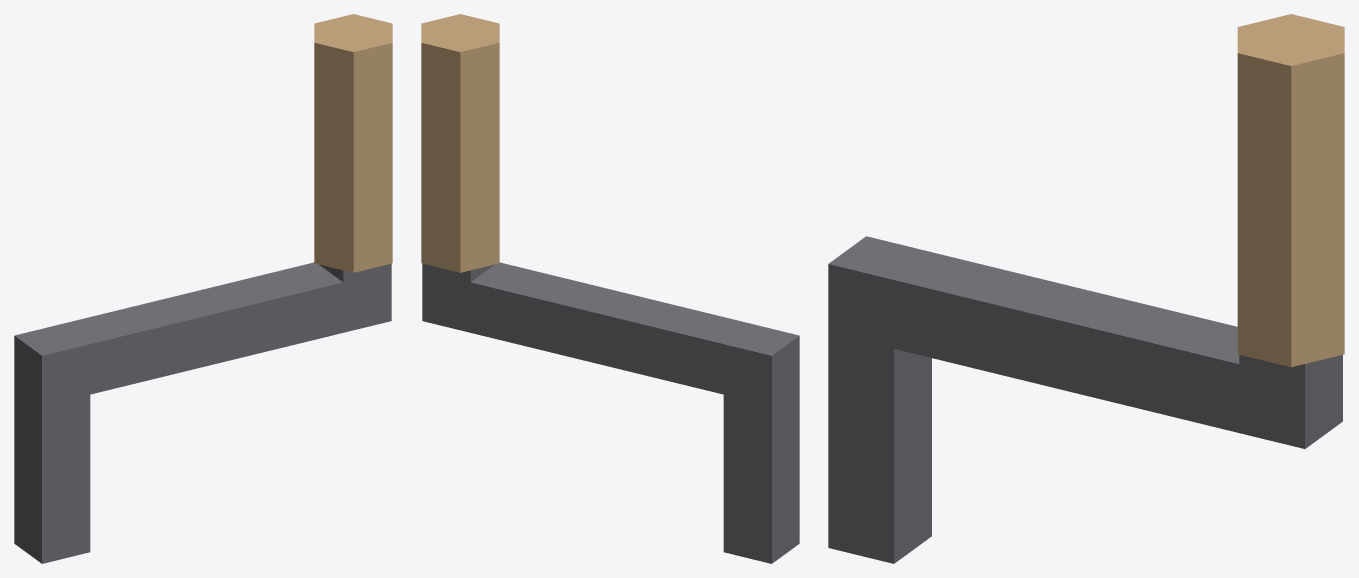
File: prop-crank-handle-blank.fbx
3 views of the same model, side by side, from view 1: azimuth 30°, elevation 25°; view 2: azimuth 150°, elevation 25°; view 3: azimuth 330°, elevation 25° (orthographic). The views are drawn at different scales.
Visible parts, largest first — view 1: prop-crank-handle-blank; view 2: prop-crank-handle-blank; view 3: prop-crank-handle-blank.
Boxes of the visible parts, x1=… form: prop-crank-handle-blank: x1=14, y1=14, x2=392, y2=563; prop-crank-handle-blank: x1=421, y1=14, x2=799, y2=563; prop-crank-handle-blank: x1=828, y1=14, x2=1344, y2=563.
Bounding box in the file's own units: 12.1 × 14 × 2.25.
